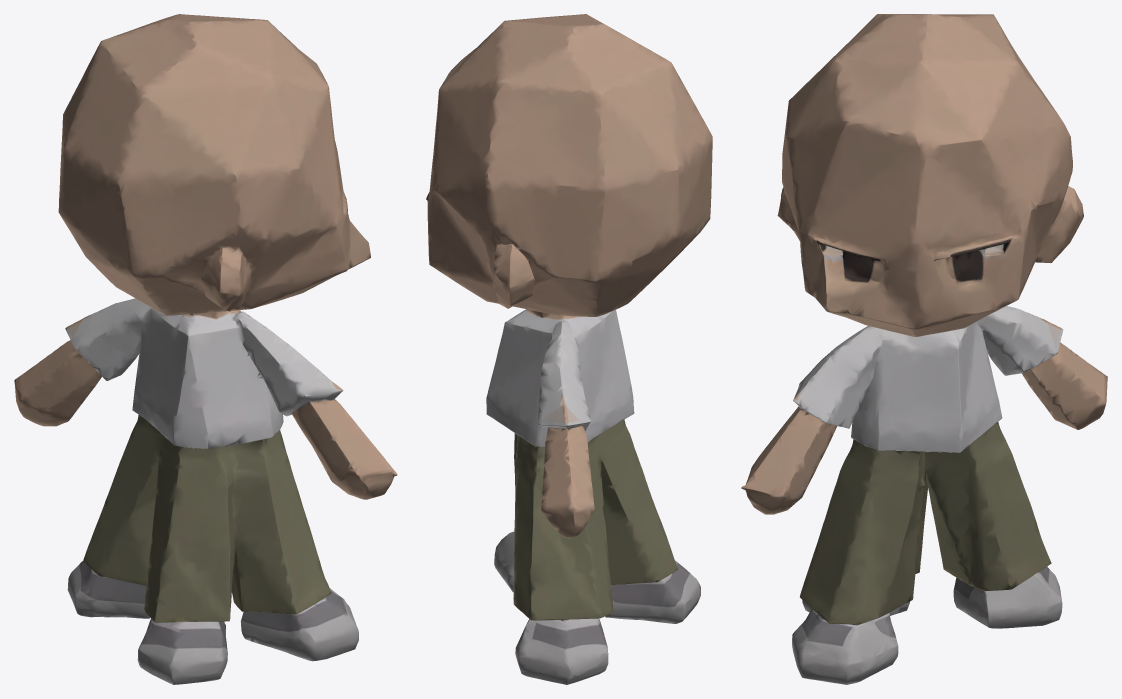
Rendered from dressed.glb.
3 views of the same model, side by side, from view 1: azimuth 30°, elevation 25°; view 2: azimuth 150°, elevation 25°; view 3: azimuth 270°, elevation 25° (orthographic). The views are drawn at different scales.
Parts seen in each view (by area): view 1: tripo_node_4f122b3d-a23b-4f9e-8259-4ff4c44d2d00; view 2: tripo_node_4f122b3d-a23b-4f9e-8259-4ff4c44d2d00; view 3: tripo_node_4f122b3d-a23b-4f9e-8259-4ff4c44d2d00.
Boxes of the visible parts, bbox=[...] form: tripo_node_4f122b3d-a23b-4f9e-8259-4ff4c44d2d00: bbox=[14, 14, 397, 684]; tripo_node_4f122b3d-a23b-4f9e-8259-4ff4c44d2d00: bbox=[426, 14, 712, 684]; tripo_node_4f122b3d-a23b-4f9e-8259-4ff4c44d2d00: bbox=[741, 14, 1107, 684].
Bounding box in the file's own units: 0.4435 × 1 × 0.5399.
Materials: 1 (1 with a texture image).
